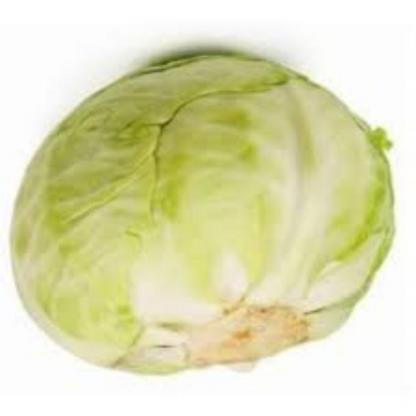cabbage: (10, 34, 416, 383)
